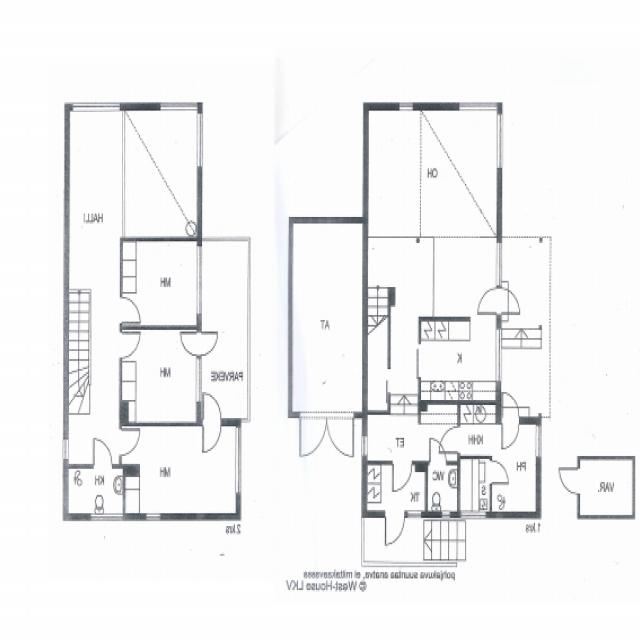door: (327, 411, 354, 456), (300, 411, 327, 456), (386, 510, 404, 544), (496, 287, 520, 312), (393, 460, 412, 491), (479, 287, 502, 312), (205, 417, 222, 450), (205, 391, 222, 424), (559, 467, 580, 493), (120, 332, 141, 358), (94, 437, 112, 467), (430, 435, 448, 464), (440, 425, 460, 451), (120, 428, 140, 454), (120, 296, 140, 322), (198, 332, 219, 356), (182, 332, 203, 356), (503, 392, 519, 423), (503, 416, 519, 447), (490, 461, 507, 482)
